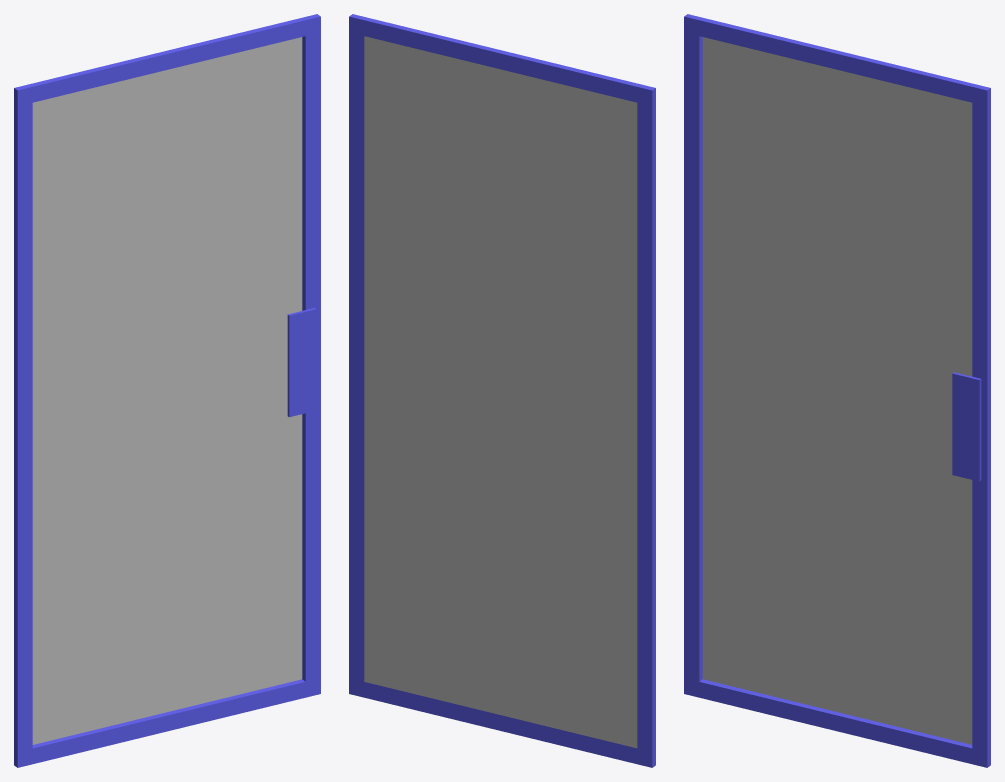
The model's file is original-9.obj.
3 views of the same model, side by side, from view 1: azimuth 30°, elevation 25°; view 2: azimuth 150°, elevation 25°; view 3: azimuth 330°, elevation 25° (orthographic).
Visible parts, largest first — view 1: Display_Door3/Display_Door/mesh3/mesh3-geometry#mesh3-geometry; view 2: Display_Door3/Display_Door/mesh3/mesh3-geometry#mesh3-geometry; view 3: Display_Door3/Display_Door/mesh3/mesh3-geometry#mesh3-geometry.
Part boxes in pixels (x1=…): Display_Door3/Display_Door/mesh3/mesh3-geometry#mesh3-geometry: x1=14, y1=14, x2=320, y2=767; Display_Door3/Display_Door/mesh3/mesh3-geometry#mesh3-geometry: x1=349, y1=14, x2=655, y2=767; Display_Door3/Display_Door/mesh3/mesh3-geometry#mesh3-geometry: x1=684, y1=14, x2=990, y2=767.
Size of the model in its own units: 0.446 by 0.9523 by 0.0134.
